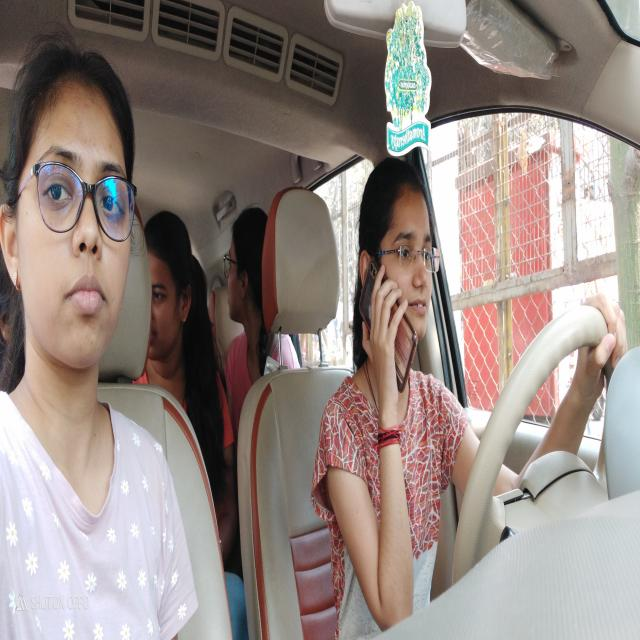mobile: (359, 254, 417, 386)
person: (0, 31, 146, 380), (358, 138, 447, 384), (139, 193, 199, 365), (225, 200, 268, 347)
